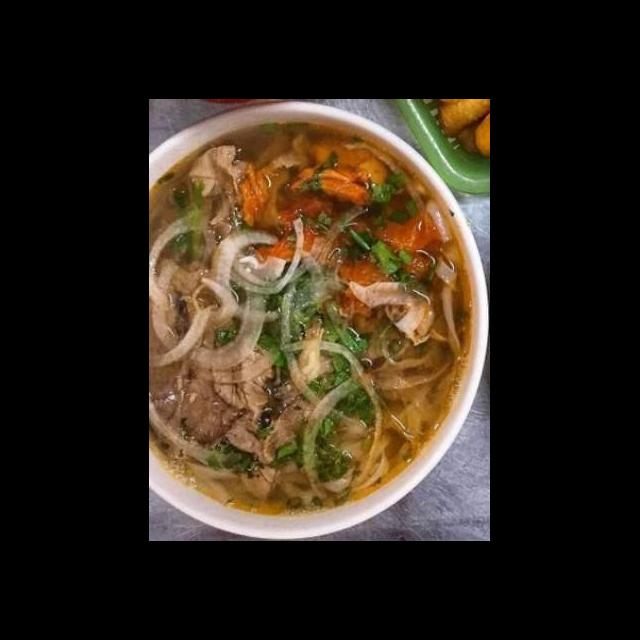thit bo: (150, 322, 282, 470), (208, 316, 280, 437), (182, 139, 256, 203)
